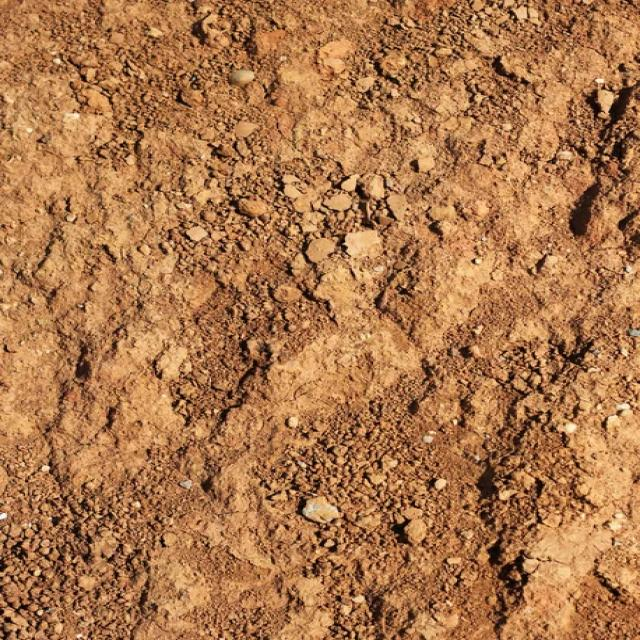suelo_seco: (118, 59, 502, 552)
